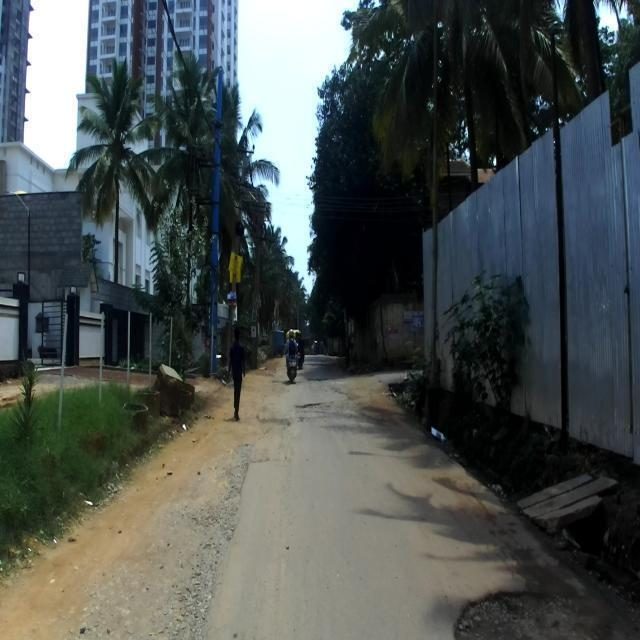Pothole: (448, 583, 591, 640)
